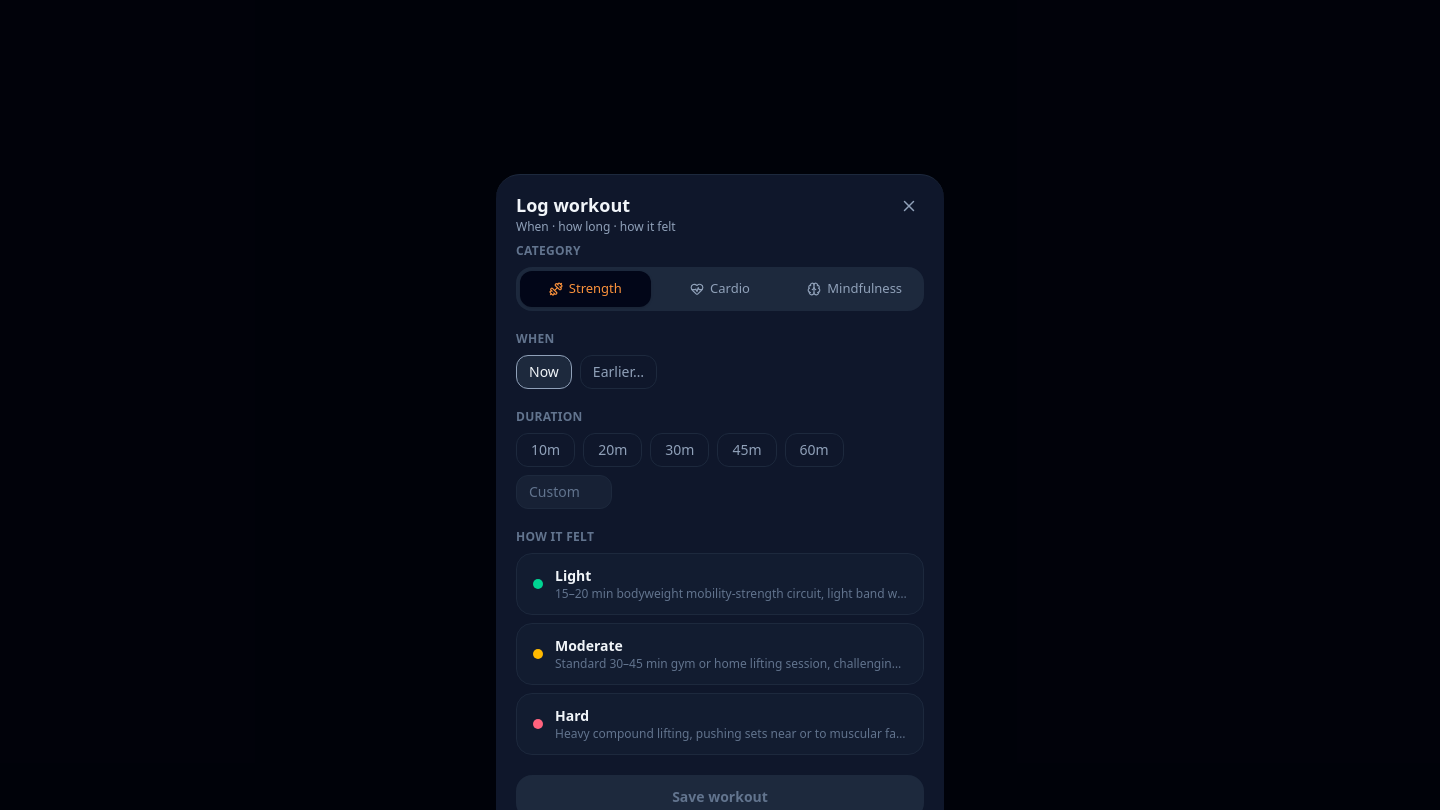
Test: LogWorkoutSheet › stays non-punitive for mindfulness during Rest
Click the button "Mindfulness".
click(855, 289)  # box [789,271,920,306]
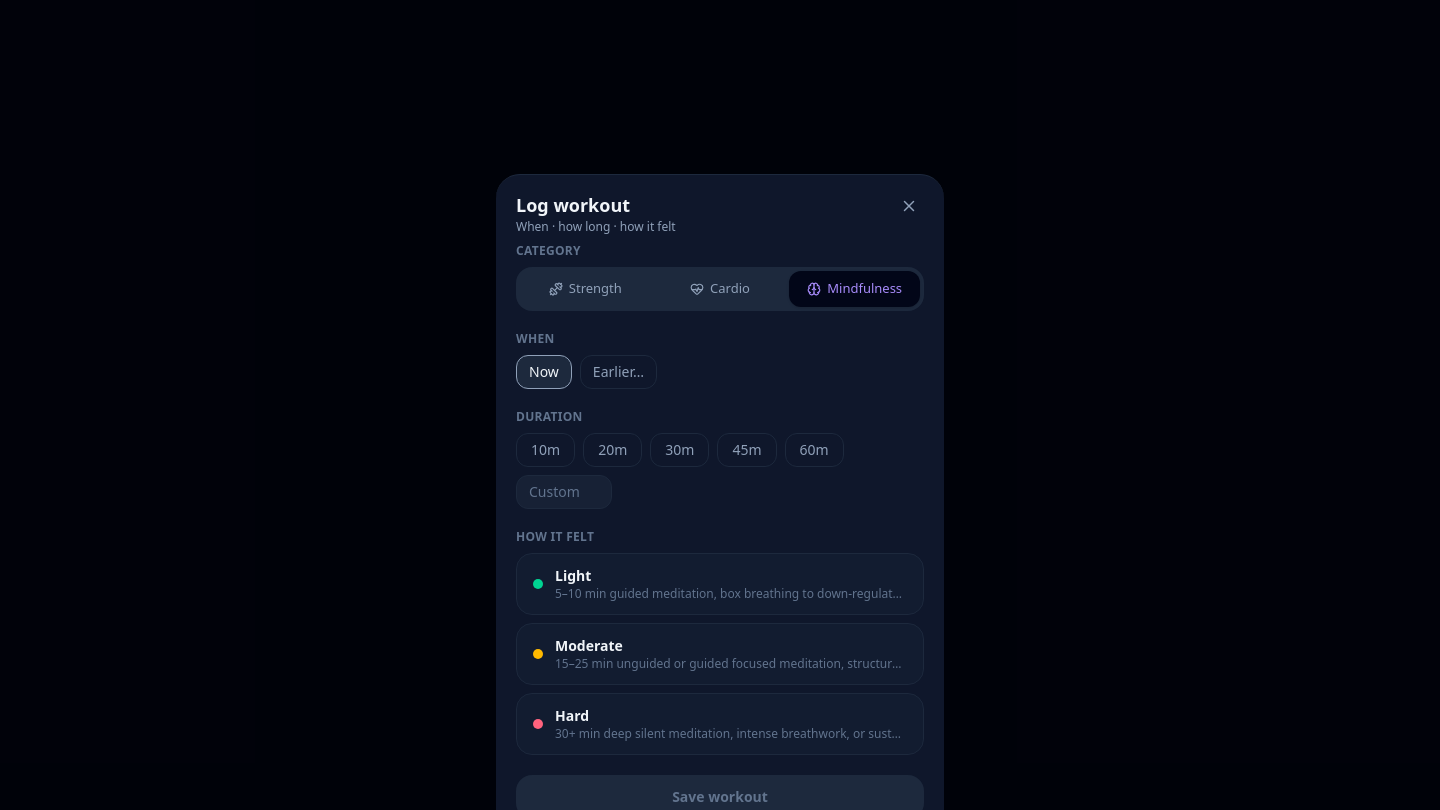
Click the button "Hard".
click(720, 724)  # box [516,692,924,754]
(page scrolled)
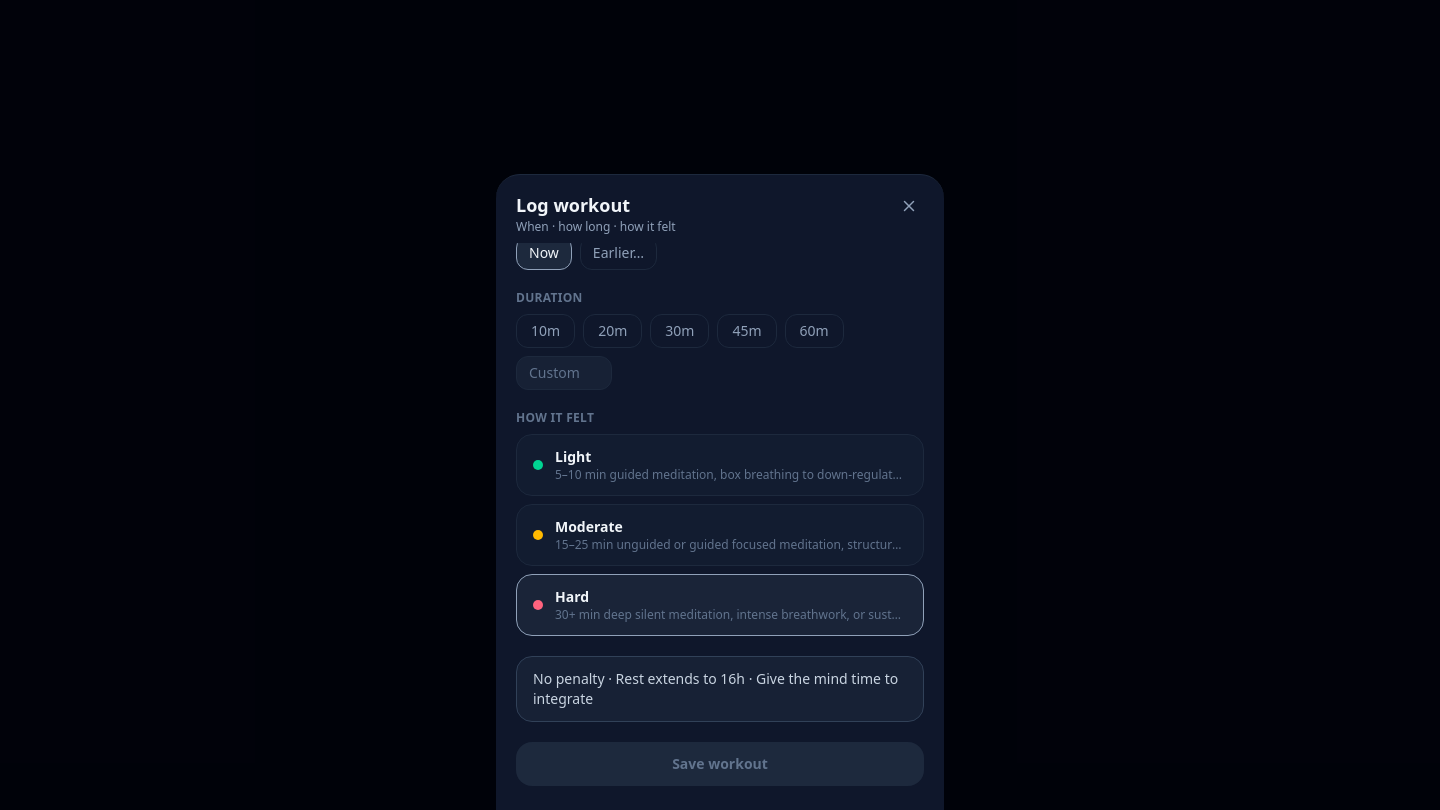
Expected: the text "No penalty · Rest extends to 16h · Give the mind time to integrate" is shown, [516,656,924,722]
